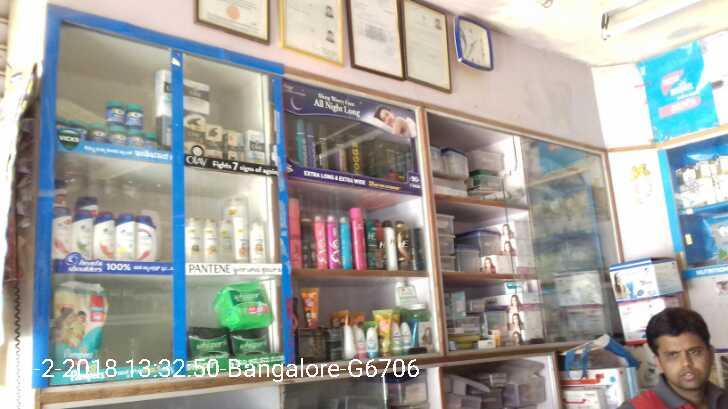beauty: (180, 110, 207, 162), (92, 212, 119, 261), (180, 75, 211, 115), (182, 212, 203, 265), (71, 211, 91, 265), (240, 124, 269, 161), (217, 216, 237, 266), (118, 213, 137, 265), (248, 216, 268, 263), (138, 215, 156, 263), (203, 217, 219, 268), (156, 65, 171, 118), (206, 119, 221, 159), (225, 125, 237, 162)
pharmacy: (52, 277, 102, 365), (219, 276, 271, 329), (92, 126, 156, 152), (183, 324, 231, 356), (231, 330, 273, 360), (106, 99, 124, 124), (126, 104, 141, 127)
